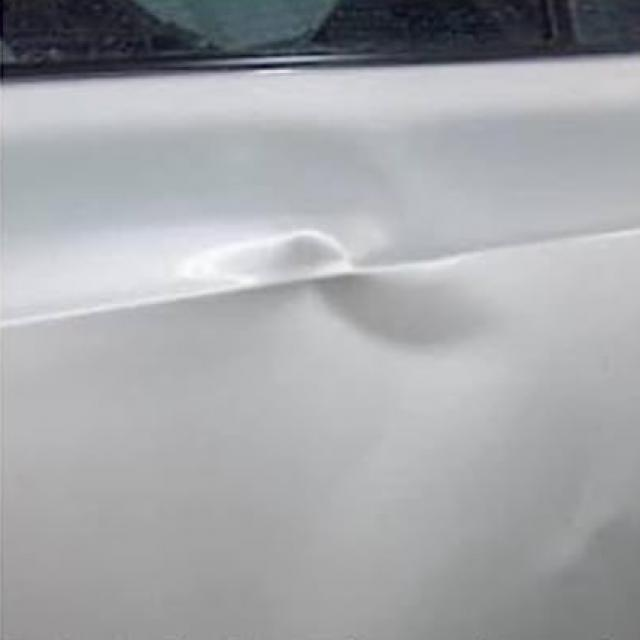dents: (222, 222, 479, 378)
